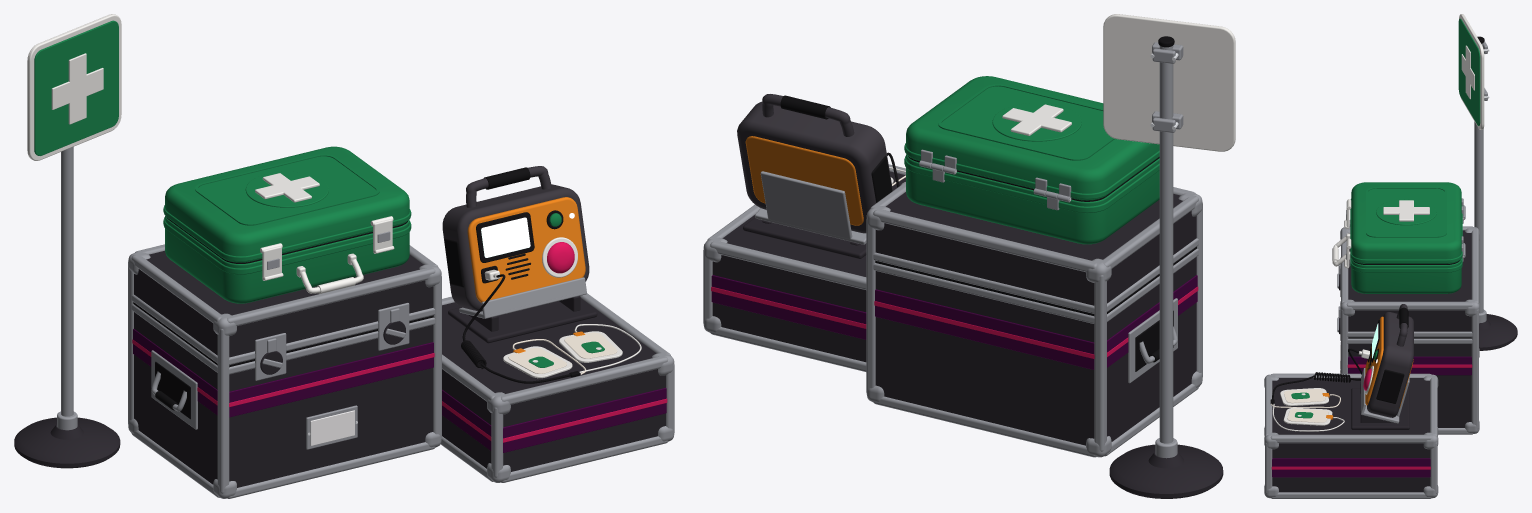
File: firstaid.glb
3 views of the same model, side by side, from view 1: azimuth 30°, elevation 25°; view 2: azimuth 150°, elevation 25°; view 3: azimuth 270°, elevation 25° (orthographic). The views are drawn at different scales.
Parts seen in each view (by area): view 1: crateA_body, lid_shell, cradle, sign_plate, pad_body, pad_body.001; view 2: crateA_body, lid_shell, cradle, sign_plate; view 3: crateA_body, lid_shell, cradle, sign_plate, pad_body.001, pad_body.
Boxes of the visible parts, bbox=[...] form: crateA_body: bbox=[14, 147, 674, 498]; lid_shell: bbox=[163, 146, 411, 280]; cradle: bbox=[442, 166, 589, 318]; sign_plate: bbox=[27, 14, 121, 160]; pad_body: bbox=[503, 346, 572, 378]; pad_body.001: bbox=[559, 331, 622, 362]; crateA_body: bbox=[703, 36, 1223, 498]; lid_shell: bbox=[904, 76, 1159, 202]; cradle: bbox=[737, 94, 892, 244]; sign_plate: bbox=[1103, 14, 1235, 151]; crateA_body: bbox=[1264, 36, 1517, 498]; lid_shell: bbox=[1344, 182, 1465, 268]; cradle: bbox=[1358, 304, 1413, 423]; sign_plate: bbox=[1458, 14, 1489, 129]; pad_body.001: bbox=[1283, 407, 1333, 425]; pad_body: bbox=[1280, 388, 1329, 405].
Bounding box in the file's own units: 1.25 × 0.98 × 0.734.
